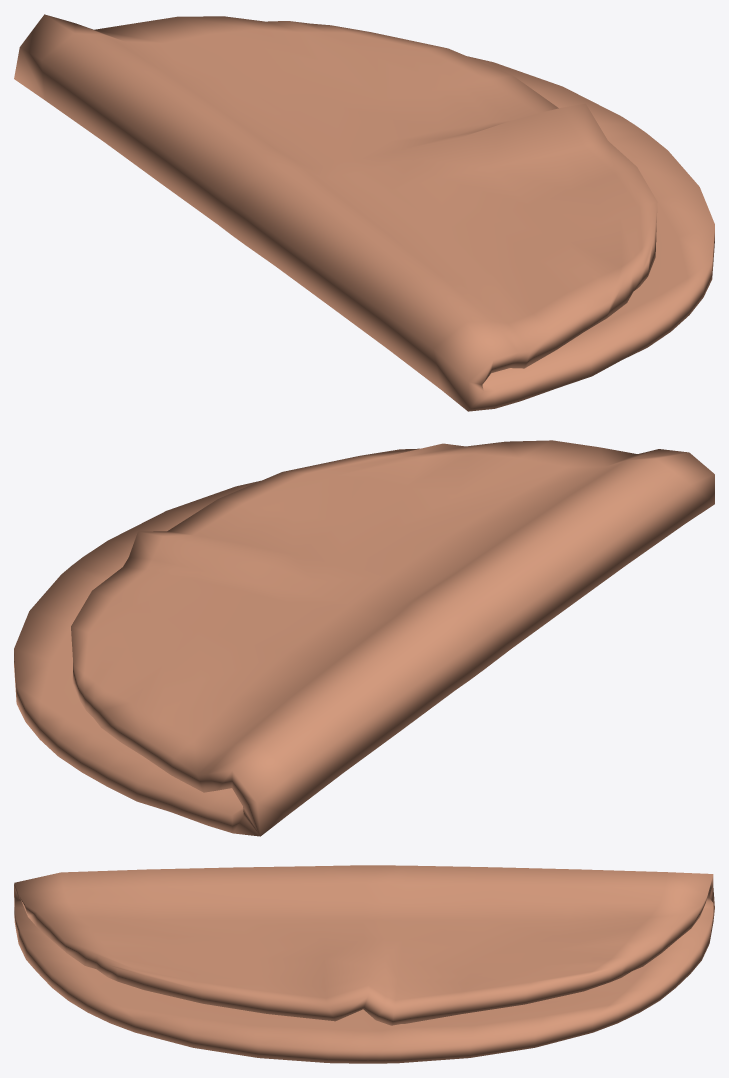
Rendered from Meat.fbx.
The picture shows the model from 3 angles, top to bottom: view 1: azimuth 30°, elevation 25°; view 2: azimuth 150°, elevation 25°; view 3: azimuth 270°, elevation 25°; orthographic projection. The views are drawn at different scales.
Visible parts, largest first — view 1: MeatTM; view 2: MeatTM; view 3: MeatTM.
Boxes of the visible parts, bbox=[...] form: MeatTM: bbox=[14, 14, 714, 411]; MeatTM: bbox=[14, 440, 714, 836]; MeatTM: bbox=[14, 865, 714, 1063].
Size of the model in its own units: 29.26 by 5.01 by 56.
